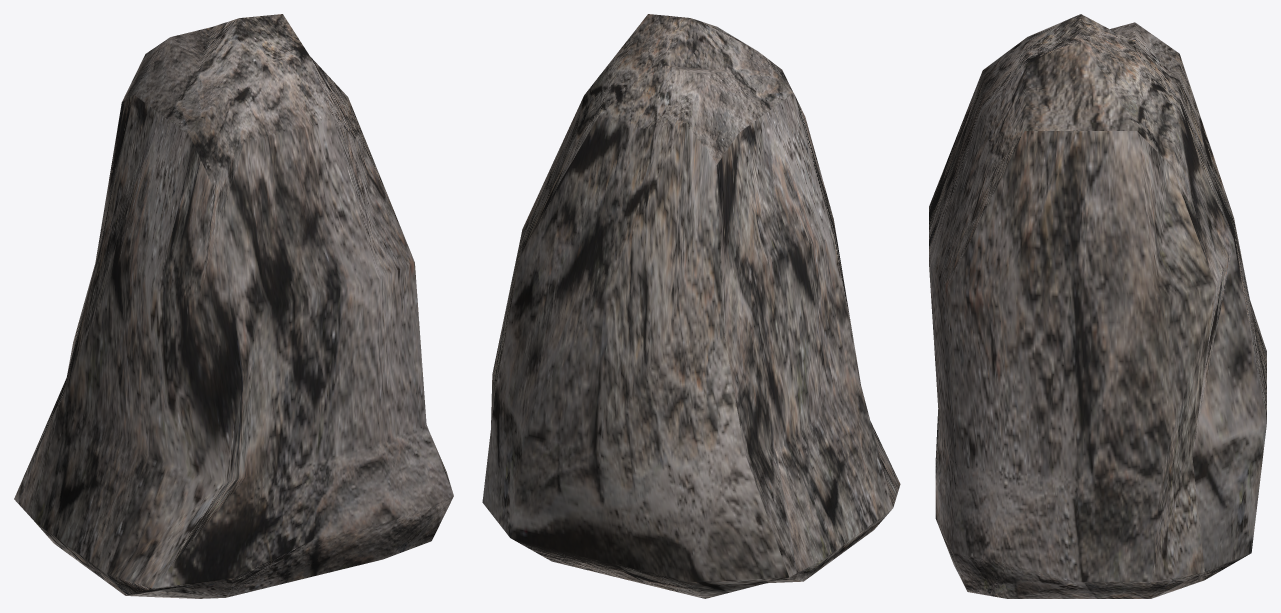
The model's file is Single rock.fbx.
3 renders of one model, left to right at view 1: azimuth 30°, elevation 25°; view 2: azimuth 150°, elevation 25°; view 3: azimuth 270°, elevation 25°, orthographic. The views are drawn at different scales.
Parts seen in each view (by area): view 1: pCube13; view 2: pCube13; view 3: pCube13.
Boxes of the visible parts, box(x1,y1,x2,y2) form: pCube13: box(14, 14, 453, 598); pCube13: box(482, 14, 900, 598); pCube13: box(929, 14, 1266, 598).
Bounding box in the file's own units: 1.76 × 2.64 × 1.52.
